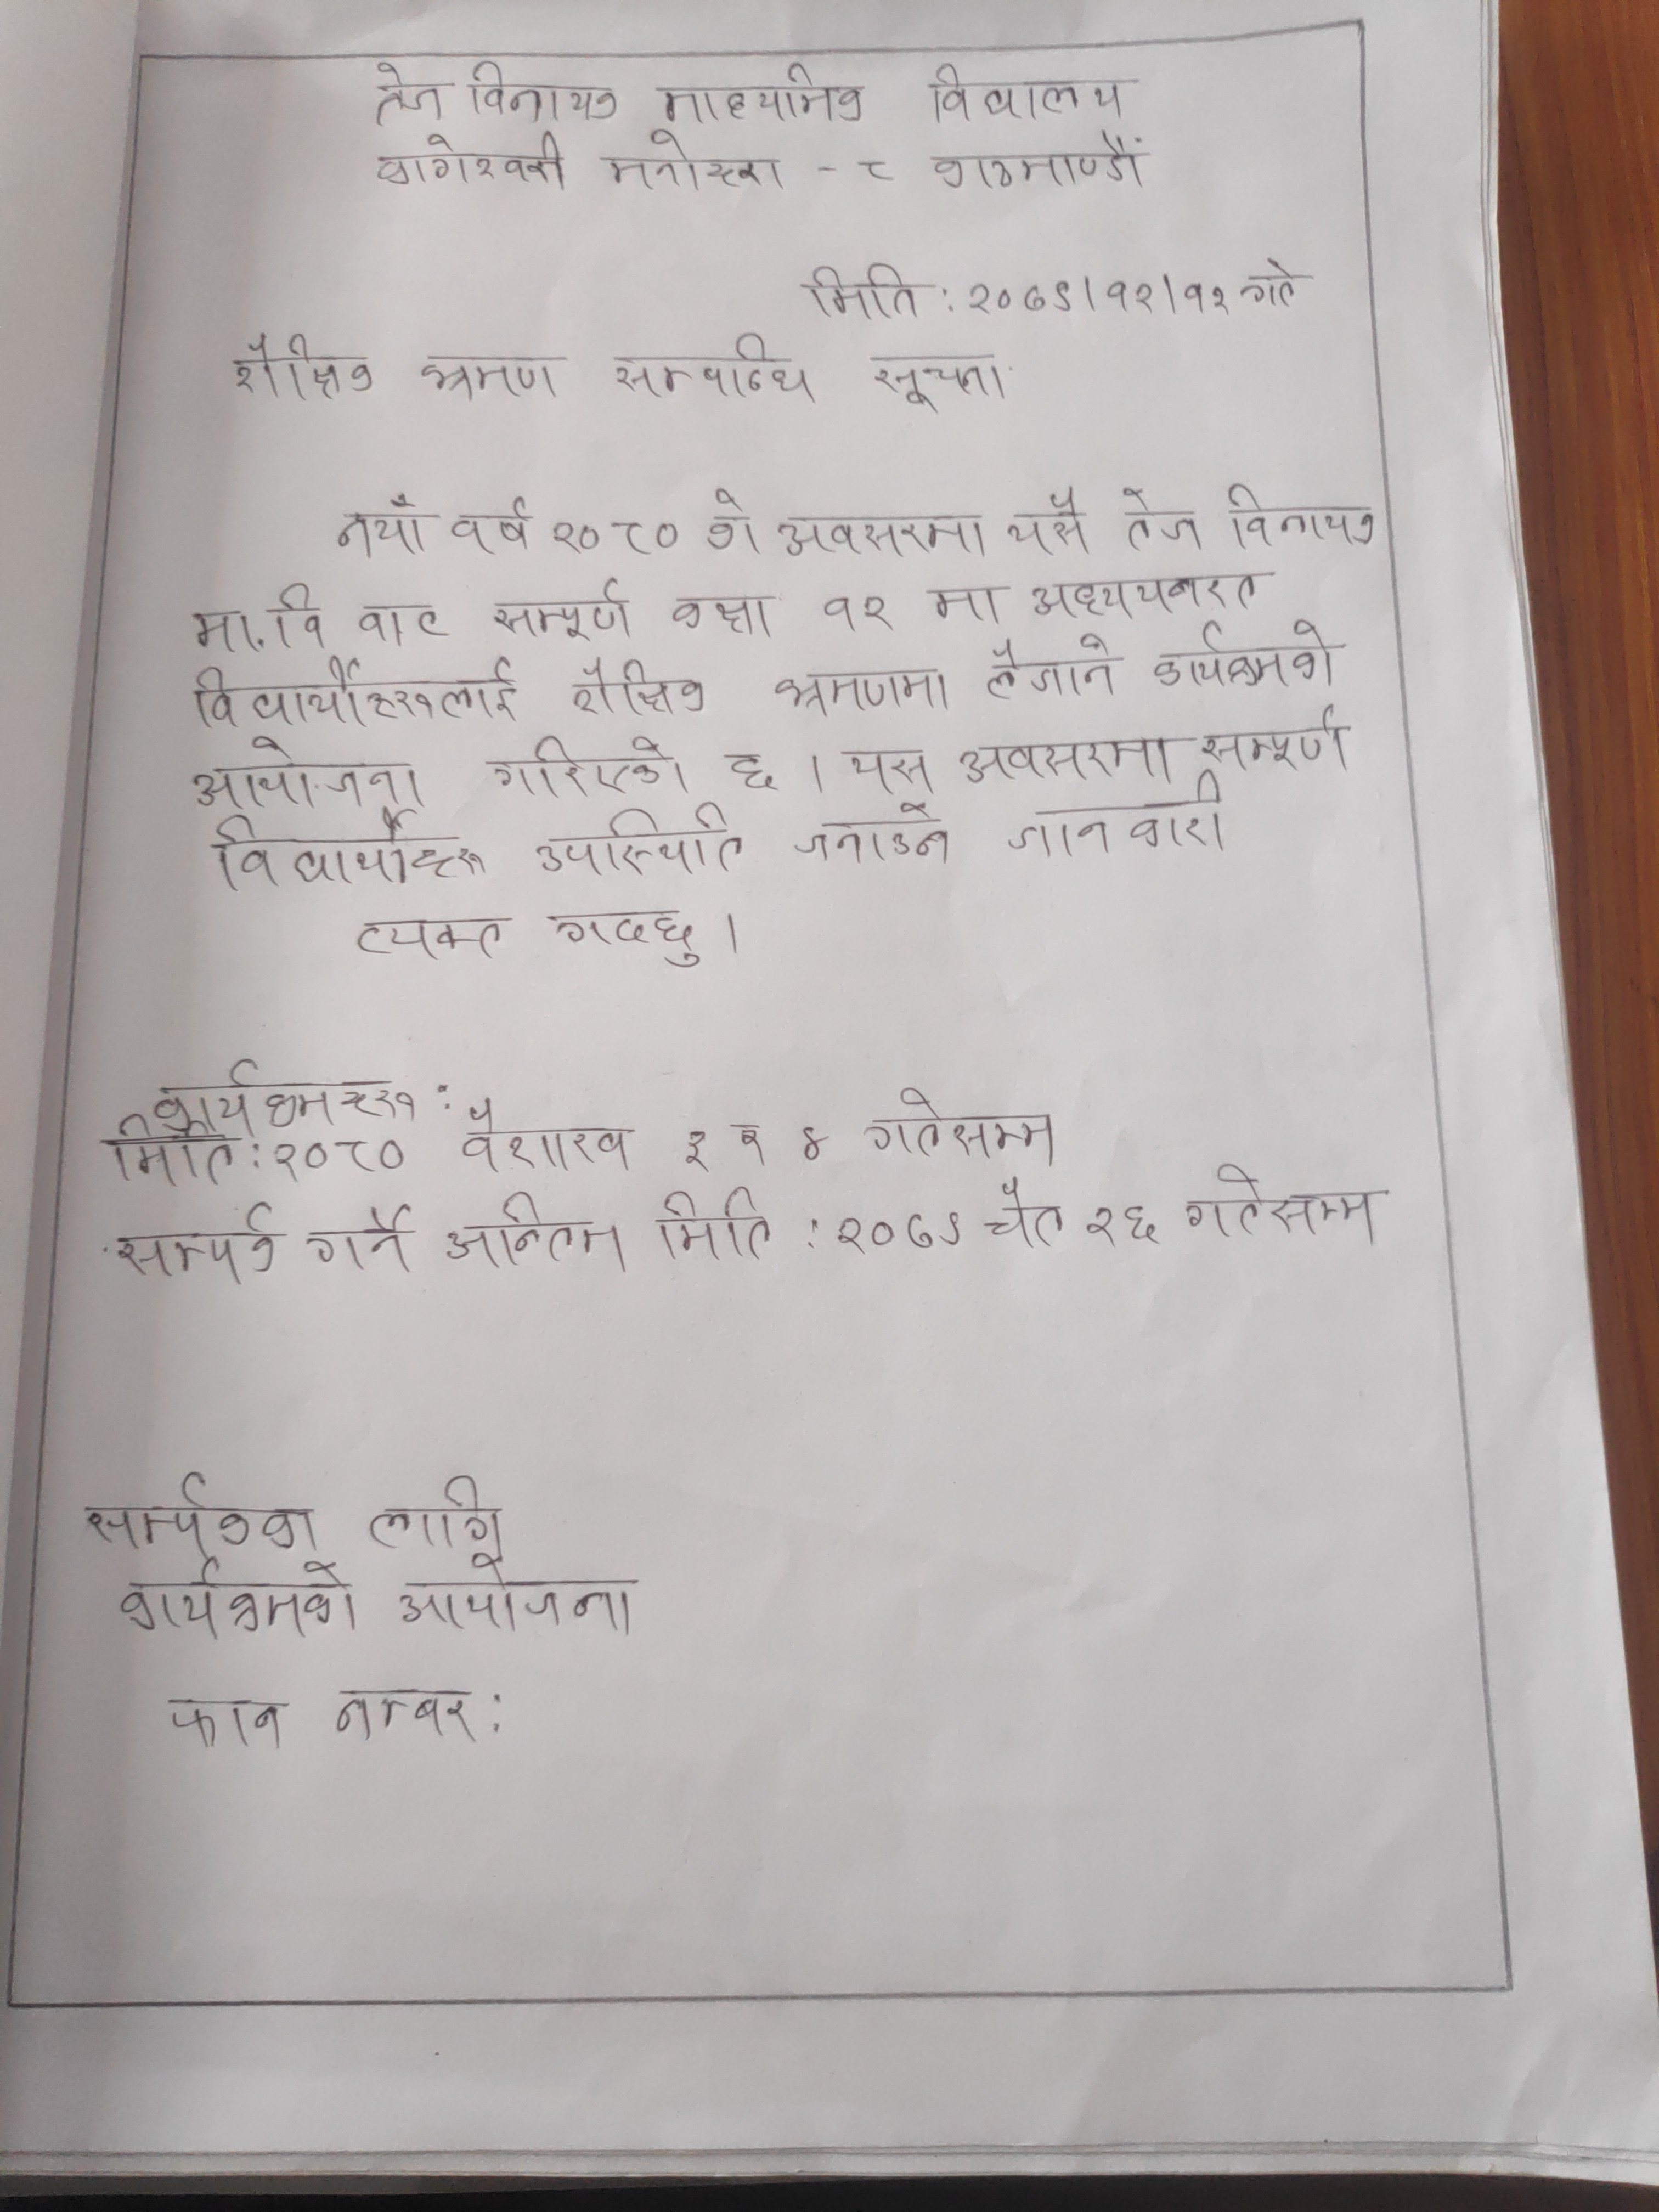text: (186, 660, 528, 730), (209, 808, 490, 888), (141, 1054, 423, 1129), (396, 1555, 643, 1637), (82, 1470, 321, 1554), (113, 1559, 366, 1637), (1180, 1158, 1389, 1249), (190, 738, 432, 810), (532, 803, 748, 880), (606, 331, 824, 406), (925, 127, 1152, 197), (863, 1087, 1061, 1165), (1147, 620, 1345, 697), (441, 1190, 629, 1270), (110, 1200, 282, 1287), (1004, 791, 1230, 857), (457, 1096, 638, 1176), (660, 61, 868, 127), (488, 735, 694, 801), (955, 732, 1175, 792), (964, 272, 1234, 320), (1018, 570, 1274, 618), (925, 63, 1131, 122), (371, 132, 573, 192), (1223, 481, 1389, 550), (369, 1475, 509, 1557), (775, 510, 993, 563), (603, 132, 789, 192), (1195, 702, 1356, 770), (547, 904, 704, 972), (793, 801, 955, 866), (465, 59, 622, 125), (230, 331, 378, 401), (981, 631, 1127, 698), (188, 583, 329, 653), (566, 653, 708, 721), (659, 1183, 777, 1263), (486, 577, 633, 641), (103, 1118, 240, 1186), (870, 348, 1009, 415), (769, 667, 957, 716), (301, 1198, 422, 1273), (326, 1688, 479, 1745), (798, 261, 932, 326), (356, 911, 509, 967), (413, 352, 566, 404), (272, 1134, 413, 1186), (162, 1696, 286, 1756), (830, 1207, 971, 1258), (335, 495, 436, 561), (1117, 481, 1208, 554), (1000, 489, 1096, 557), (978, 1179, 1070, 1249), (549, 514, 690, 559), (371, 59, 451, 131), (666, 590, 775, 641), (450, 496, 535, 559), (842, 742, 934, 794), (706, 484, 769, 561), (354, 597, 446, 648), (922, 578, 1004, 629), (1082, 1200, 1164, 1249), (1239, 256, 1305, 314), (823, 592, 903, 637), (718, 747, 784, 791), (732, 1120, 770, 1169), (678, 1122, 716, 1169), (793, 1120, 830, 1169), (854, 153, 897, 185)
